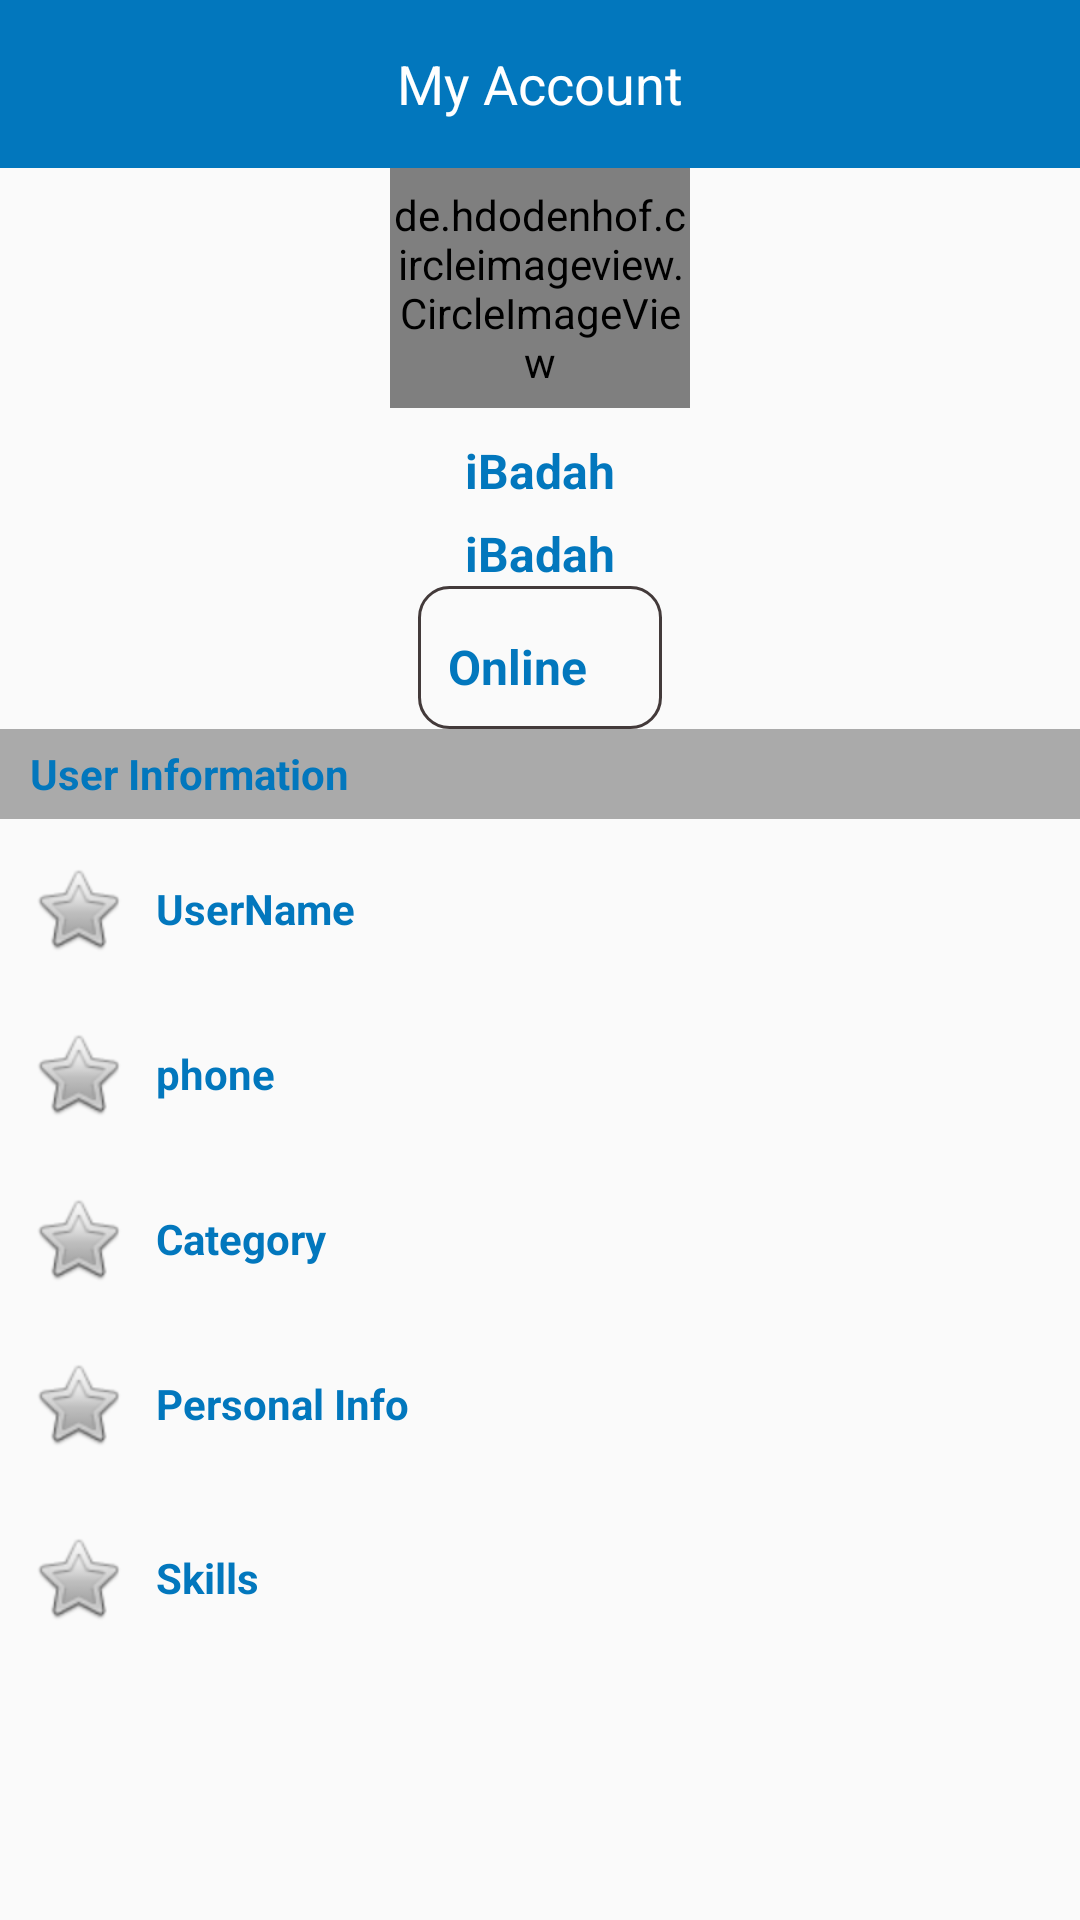

Icon click points for this 1080 x 1920 phone screenshot, format [x,y]:
star: [79,910], [79,1075], [79,1240], [79,1405], [79,1579]
